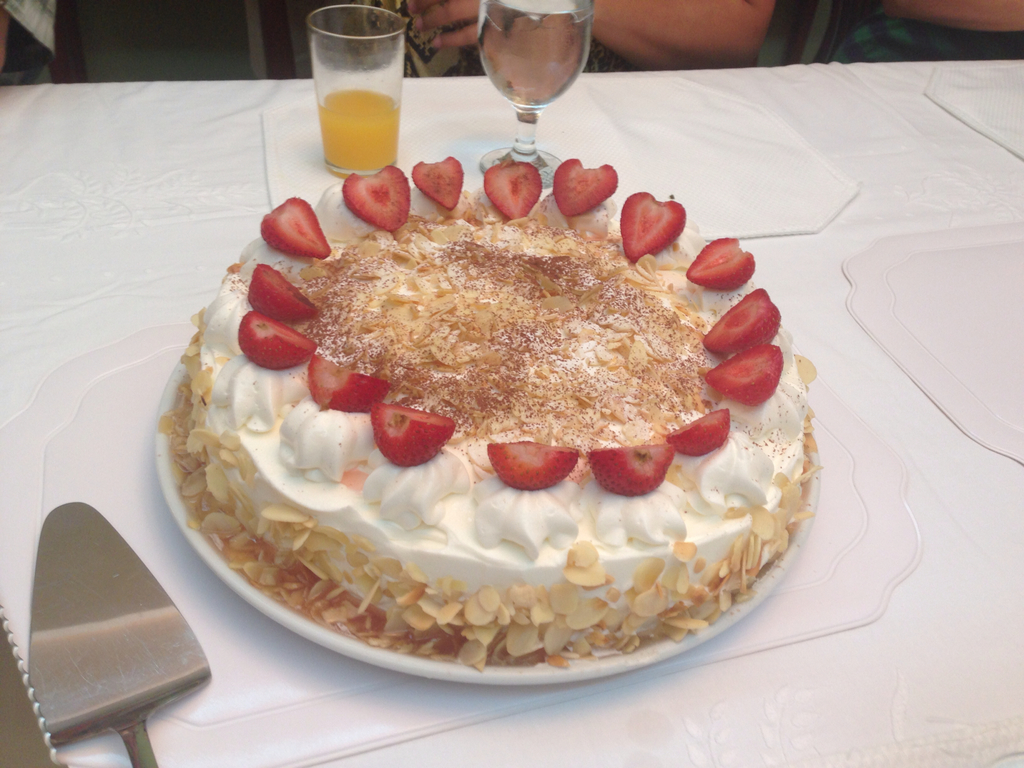person: (401, 0, 776, 75)
